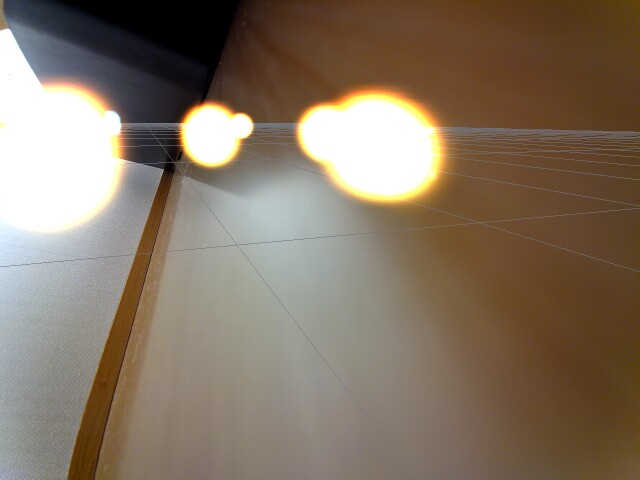firebig: (0, 59, 127, 243)
